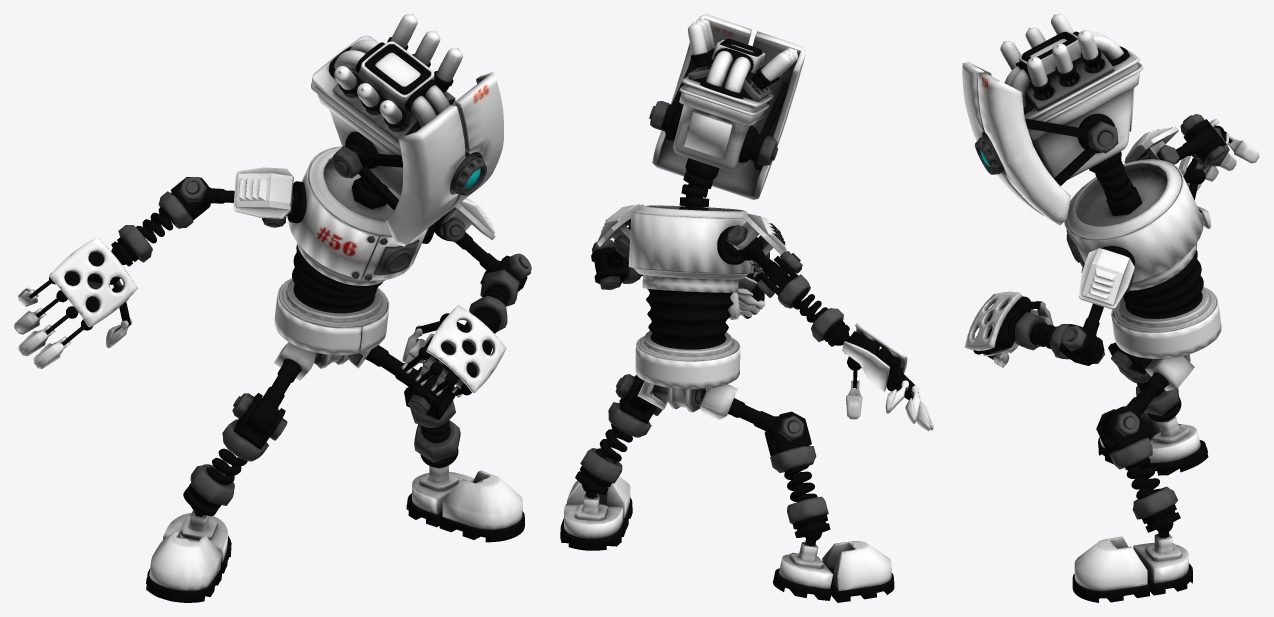
Rendered from robo-transformed.glb.
3 renders of one model, left to right at view 1: azimuth 30°, elevation 25°; view 2: azimuth 150°, elevation 25°; view 3: azimuth 270°, elevation 25°, orthographic. The views are drawn at different scales.
Visible parts, largest first — view 1: Object_4, Object_5, Object_2, Object_3, Object_6, Object_7; view 2: Object_4, Object_2, Object_5, Object_3, Object_7, Object_6; view 3: Object_4, Object_5, Object_3, Object_2, Object_6, Object_7.
Part boxes in pixels (x1,y1,x2,y2): Object_4: [274, 31, 503, 368]; Object_5: [291, 14, 495, 397]; Object_2: [146, 52, 488, 602]; Object_3: [234, 71, 524, 542]; Object_6: [18, 177, 531, 392]; Object_7: [14, 177, 384, 355]; Object_4: [628, 14, 797, 412]; Object_2: [575, 44, 894, 602]; Object_5: [669, 17, 805, 319]; Object_3: [560, 48, 786, 550]; Object_7: [681, 63, 930, 431]; Object_6: [591, 106, 933, 430]; Object_4: [978, 14, 1221, 361]; Object_5: [962, 30, 1179, 367]; Object_3: [1030, 75, 1192, 602]; Object_2: [1025, 38, 1208, 574]; Object_6: [964, 114, 1259, 365]; Object_7: [1039, 65, 1236, 229].
Bounding box in the file's own units: 173 × 203 × 105.
1 material, 1 textured.
